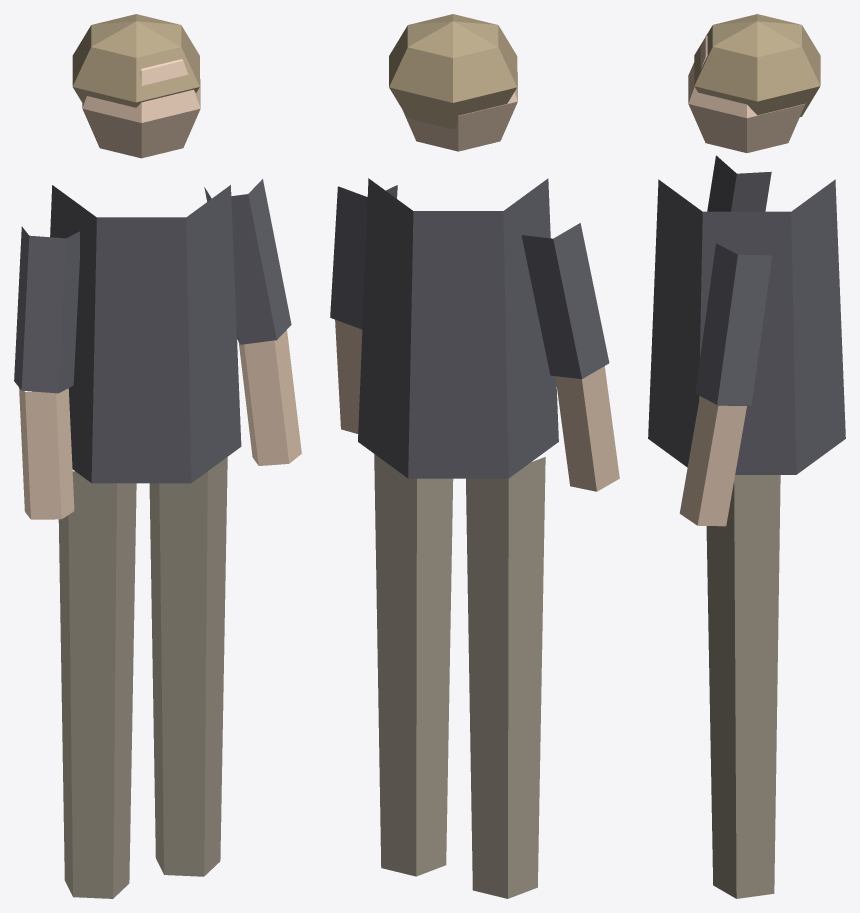
Rendered from person_stand_a.glb.
3 views of the same model, side by side, from view 1: azimuth 30°, elevation 25°; view 2: azimuth 150°, elevation 25°; view 3: azimuth 270°, elevation 25° (orthographic).
Visible parts, largest first — view 1: person_stand_a; view 2: person_stand_a; view 3: person_stand_a.
Boxes of the visible parts, left/top/right/bottom form: person_stand_a: left=14, top=14, right=301, bottom=898; person_stand_a: left=330, top=14, right=619, bottom=898; person_stand_a: left=648, top=14, right=845, bottom=898.
Size of the model in its own units: 0.595 by 1.78 by 0.38.
